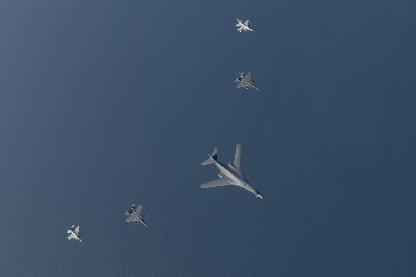AV8B: (200, 143, 264, 199)
F117: (124, 202, 148, 226), (233, 71, 260, 90)
F14: (66, 224, 84, 242), (236, 18, 254, 31)
